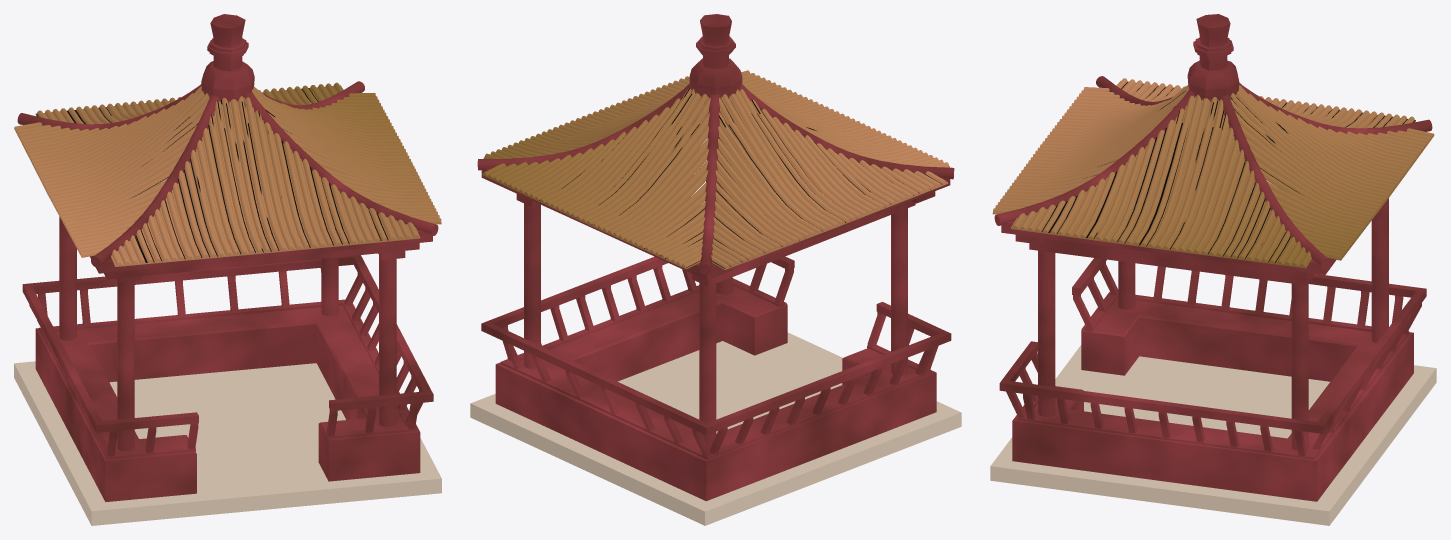
File: pavilion.glb
3 renders of one model, left to right at view 1: azimuth 30°, elevation 25°; view 2: azimuth 150°, elevation 25°; view 3: azimuth 270°, elevation 25°, orthographic. The views are drawn at different scales.
Visible parts, largest first — view 1: polySurface229; view 2: polySurface229; view 3: polySurface229.
Part boxes in pixels (<box>): polySurface229: <box>14,14,441,525</box>; polySurface229: <box>470,14,961,525</box>; polySurface229: <box>990,14,1436,525</box>.
Bounding box in the file's own units: 2.81 × 2.85 × 2.81.
Materials: 1 (1 with a texture image).
